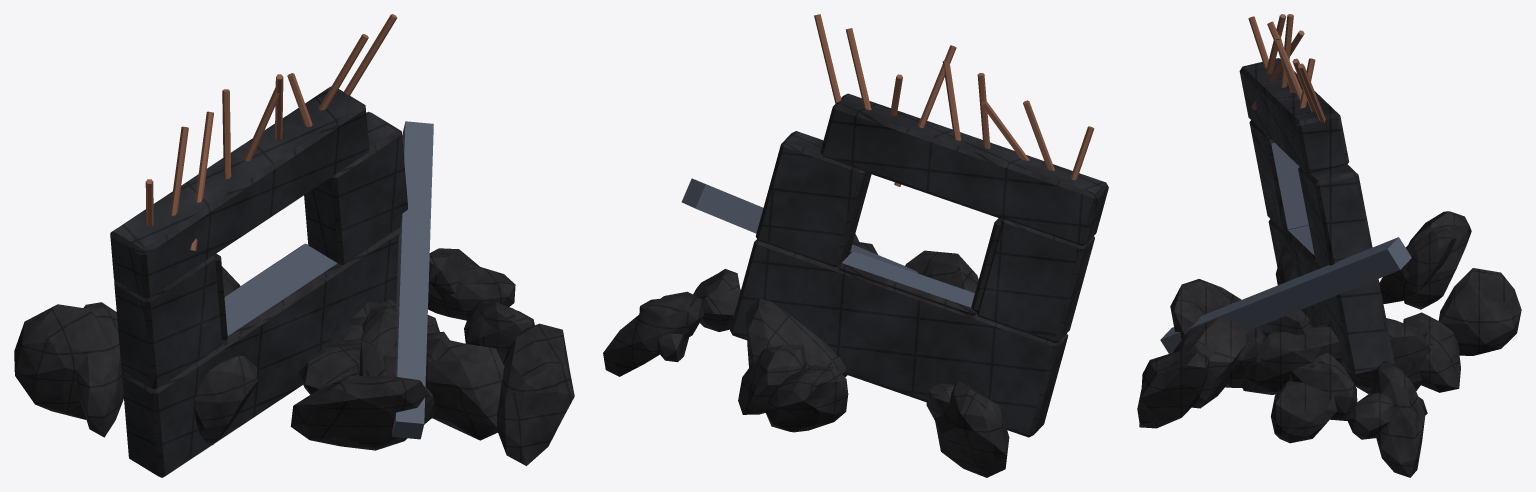
File: rubble_cluster_hq.glb
3 views of the same model, side by side, from view 1: azimuth 30°, elevation 25°; view 2: azimuth 150°, elevation 25°; view 3: azimuth 270°, elevation 25° (orthographic). The views are drawn at different scales.
Parts seen in each view (by area): view 1: RubbleClusterHQ; view 2: RubbleClusterHQ; view 3: RubbleClusterHQ.
Boxes of the visible parts, bbox=[...] form: RubbleClusterHQ: bbox=[14, 14, 574, 477]; RubbleClusterHQ: bbox=[603, 14, 1108, 477]; RubbleClusterHQ: bbox=[1137, 14, 1521, 477].
Bounding box in the file's own units: 6.01 × 4.93 × 4.89.
Materials: 4 (2 with a texture image).
